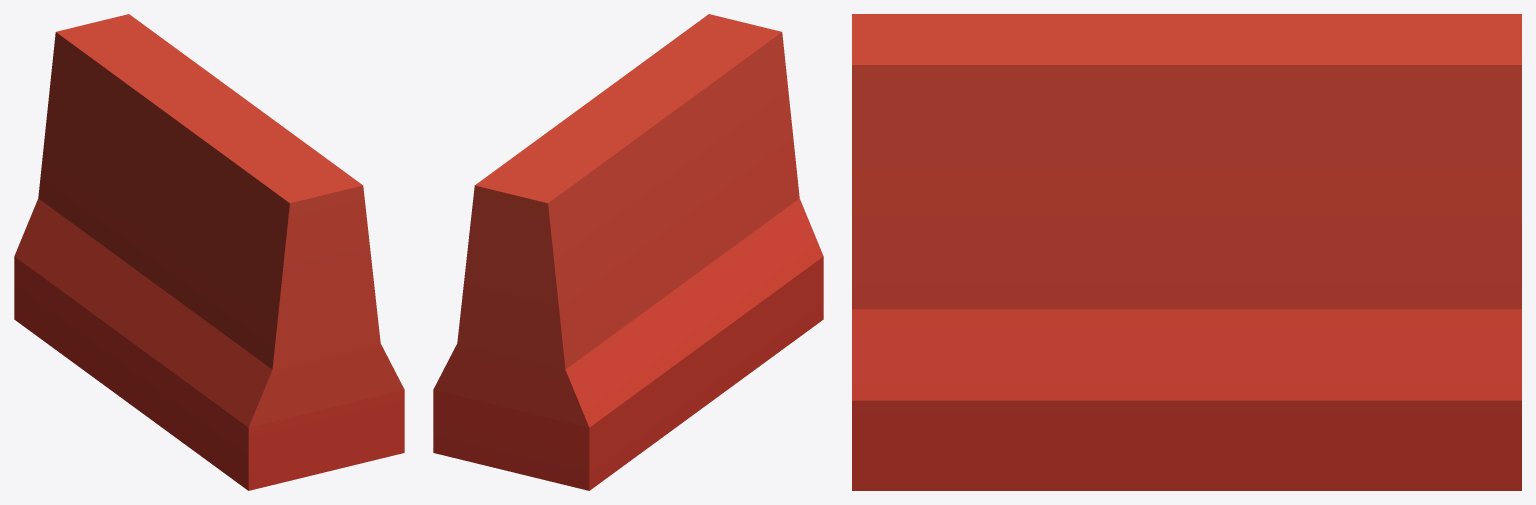
File: Road_barrier_2.fbx
3 views of the same model, side by side, from view 1: azimuth 30°, elevation 25°; view 2: azimuth 150°, elevation 25°; view 3: azimuth 270°, elevation 25° (orthographic). The views are drawn at different scales.
Parts seen in each view (by area): view 1: Road_barrier_2; view 2: Road_barrier_2; view 3: Road_barrier_2.
Boxes of the visible parts, x1,y1,x2,y2 form: Road_barrier_2: (14, 14, 404, 490); Road_barrier_2: (433, 14, 823, 490); Road_barrier_2: (852, 14, 1521, 490).
Size of the model in its own units: 75.55 by 128 by 196.
